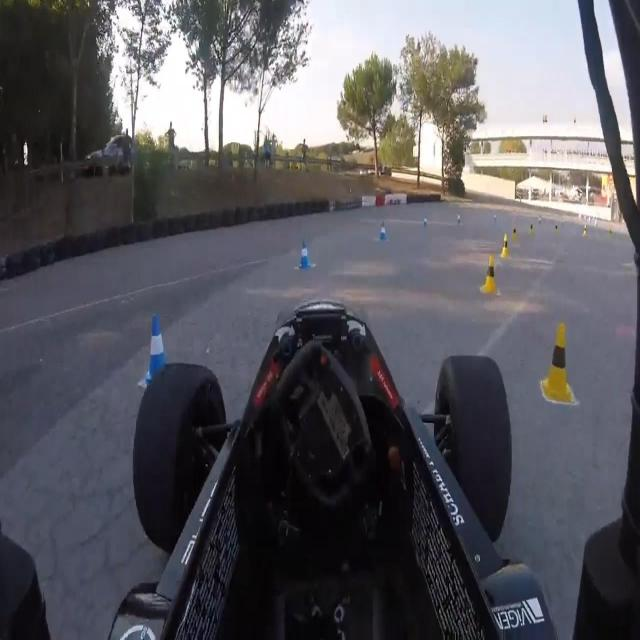blue_cone: (136, 310, 173, 390), (296, 234, 318, 282), (373, 217, 392, 247)
yellow_cone: (541, 314, 578, 409), (482, 250, 500, 297), (499, 224, 512, 259)
